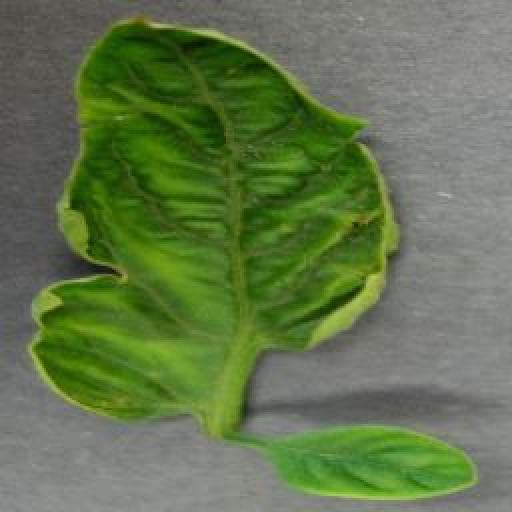Yellow Leaf Curl Virus: (34, 16, 403, 416), (271, 422, 479, 502)
